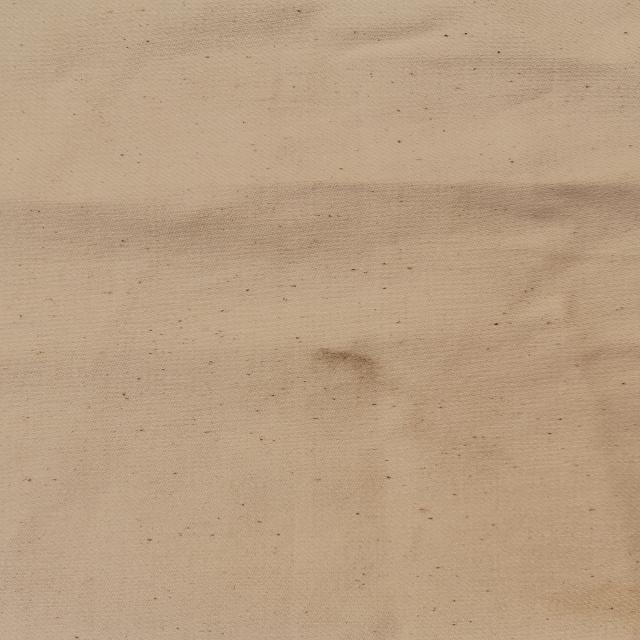taaaches: (280, 331, 407, 395), (348, 13, 478, 53)
